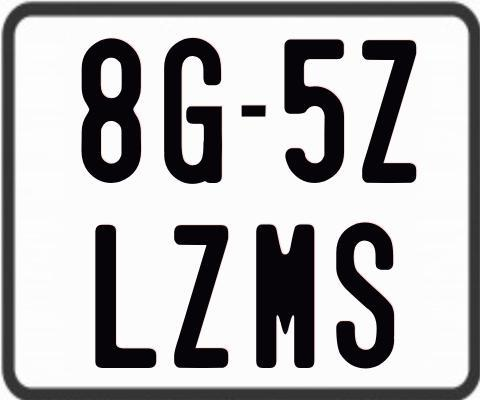5: (282, 37, 343, 182)
8: (79, 35, 139, 183)
G: (162, 36, 220, 184)
L: (95, 223, 158, 366)
M: (254, 222, 317, 372)
S: (336, 222, 398, 372)
Z: (362, 39, 422, 186), (172, 225, 232, 370)
